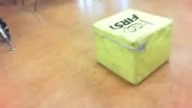cube: (91, 8, 173, 86)
